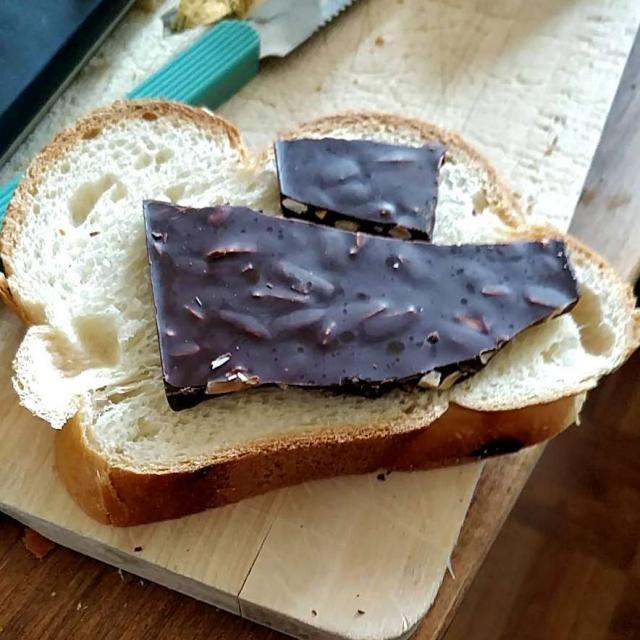bread: (2, 97, 620, 514)
